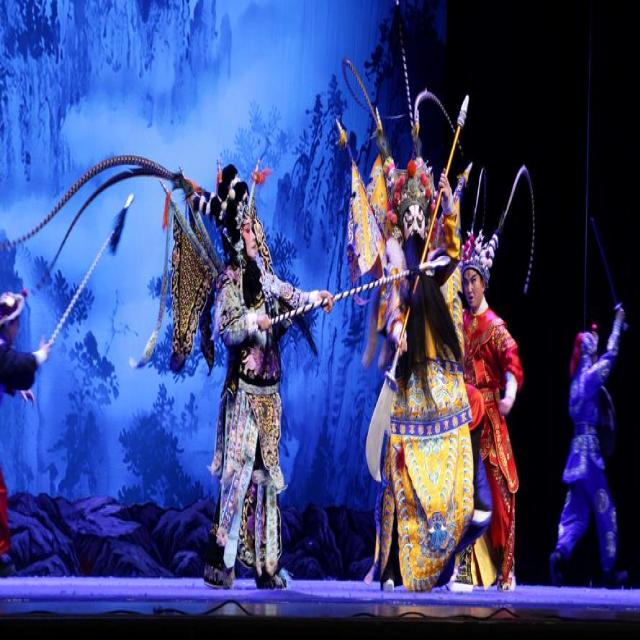Reeves-s Pheasant: (1, 146, 183, 257)
